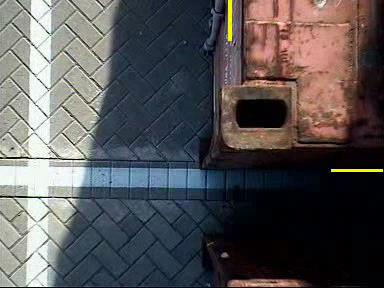groundmarker_2: (198, 1, 231, 46), (197, 168, 229, 214)
